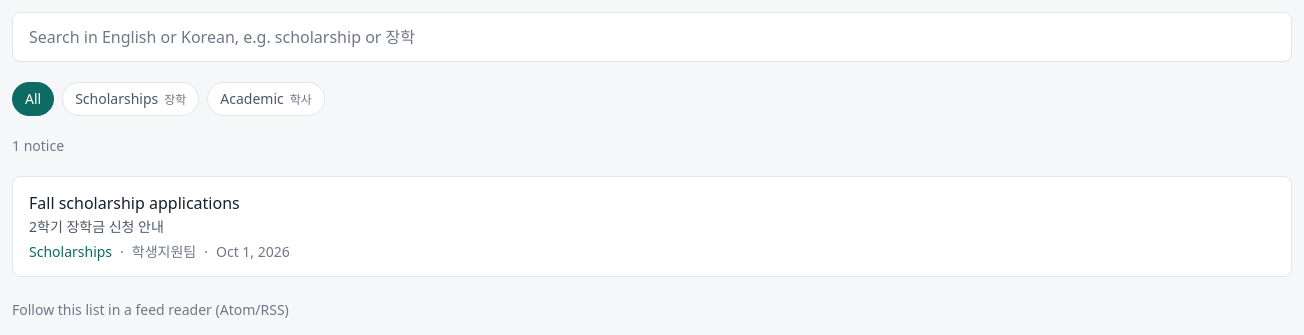
Test: NoticeListPage › searches after typing stops and keeps the query in the URL
Expected: the text "Fall scholarship applications" is shown, [29,192,240,214]
Type "  dorm " into the search field with placeholder "Search in English or Korean, e.g. scholarship or 장학". click: (652, 37)
box: [12,12,1292,62]
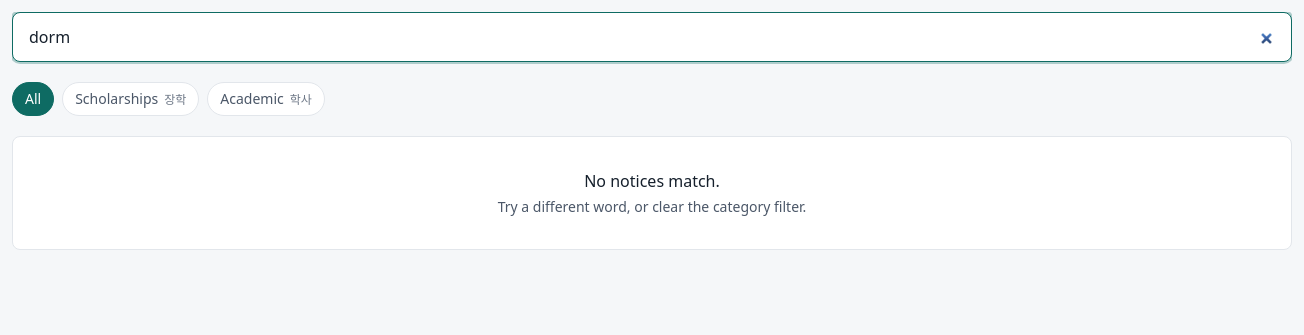
Expected: the text "No notices match." is shown, [584,170,720,192]
